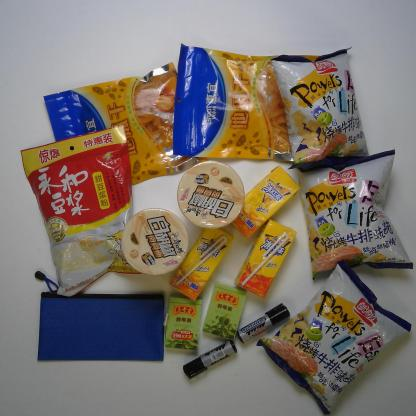Candy: (201, 279, 248, 343), (164, 294, 204, 351)
Dried Fruit: (42, 60, 211, 188), (171, 41, 320, 163)
Drink: (232, 164, 302, 240), (234, 216, 298, 298), (169, 228, 235, 303)
Instant Drink: (19, 124, 134, 299)
Instant Noodles: (175, 158, 246, 230), (120, 206, 189, 275)
Puffed Food: (255, 259, 413, 415), (287, 147, 415, 281), (269, 46, 371, 171)
Stationery: (34, 270, 168, 362), (181, 340, 239, 382), (236, 302, 291, 344)
